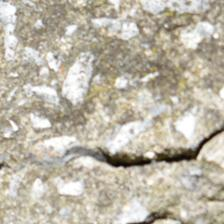Crack: (49, 61, 174, 119)
